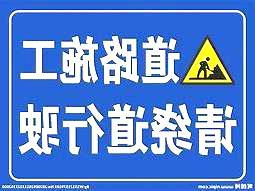sign: (6, 8, 246, 182)
